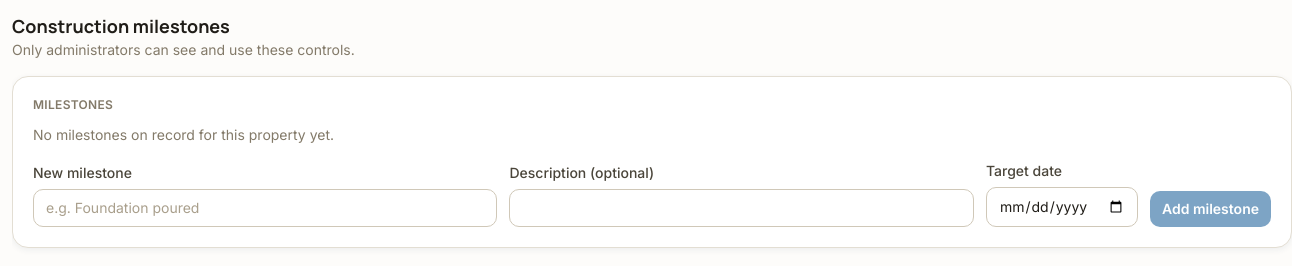
Test: MilestoneAdminPanel › keeps the Add milestone button disabled until both a title and a target date are entered
Expected: the button "Add milestone" is disabled, [1150,191,1271,227]
Type "Roofing" into the field labelled "New milestone" at x=265, y=208, box [33,189,498,227]
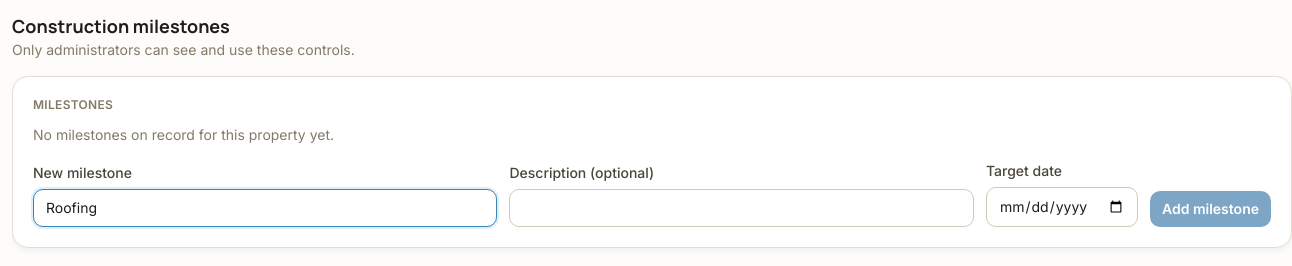
Expected: the button "Add milestone" is disabled, [1150,191,1271,227]
Type "2026-11-01" into the date field labelled "Target date" at x=1062, y=207, box [986,187,1138,227]
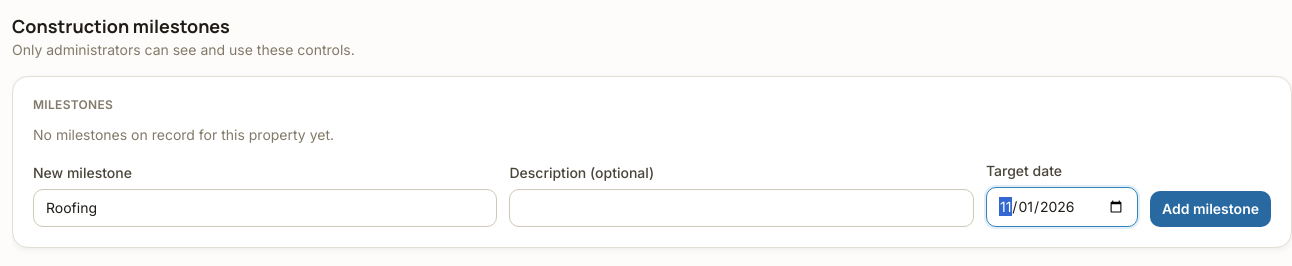
Expected: the button "Add milestone" is enabled, [1150,191,1271,227]
